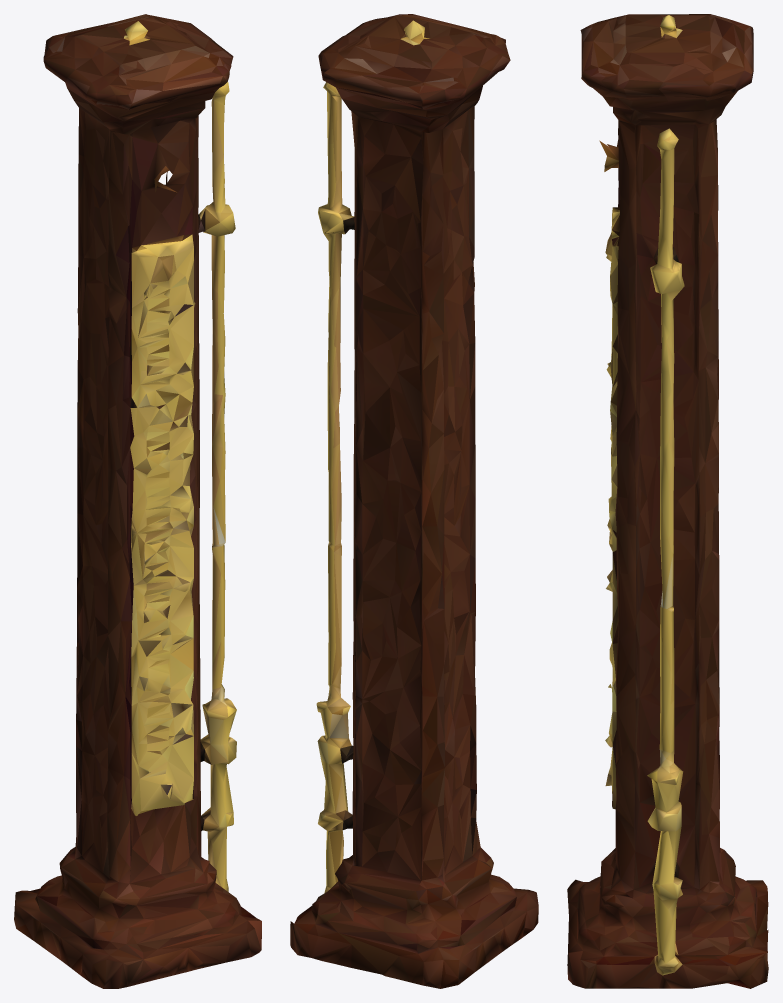
File: post.glb
3 views of the same model, side by side, from view 1: azimuth 30°, elevation 25°; view 2: azimuth 150°, elevation 25°; view 3: azimuth 270°, elevation 25° (orthographic).
Parts seen in each view (by area): view 1: geometry_0; view 2: geometry_0; view 3: geometry_0.
Part boxes in pixels (x1=…): geometry_0: x1=14, y1=14, x2=261, y2=988; geometry_0: x1=290, y1=14, x2=538, y2=988; geometry_0: x1=567, y1=14, x2=768, y2=988.
Size of the model in its own units: 0.0787 by 0.38 by 0.0743.
1 material, 1 textured.
